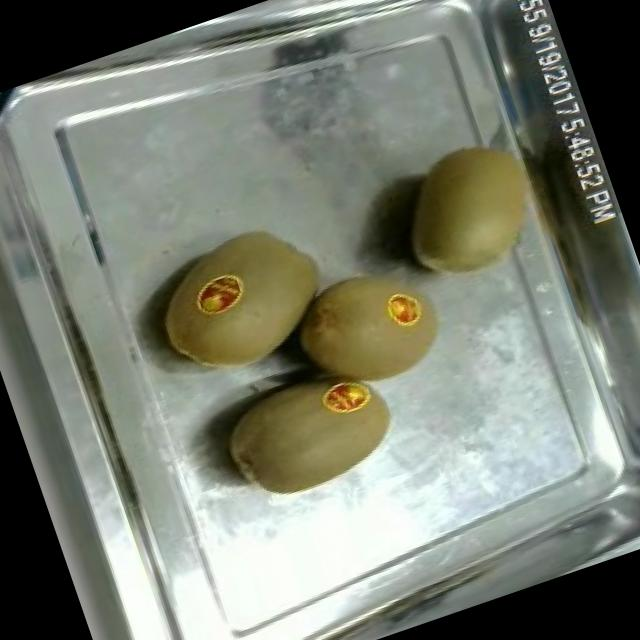Fruit: (132, 204, 348, 398), (202, 343, 412, 522), (376, 123, 562, 300), (272, 244, 461, 416)
